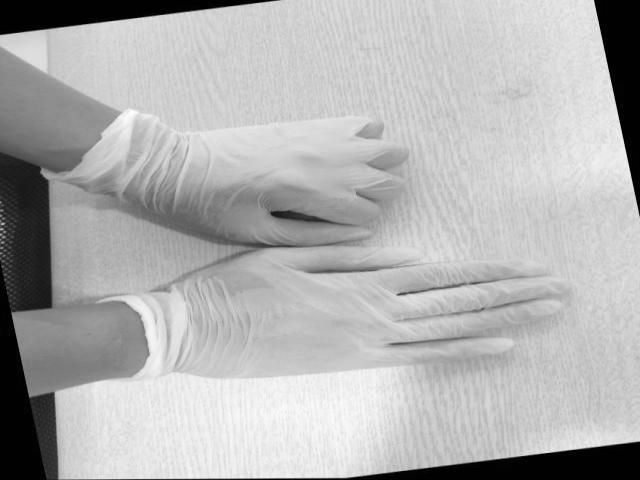gloved: (182, 245, 564, 378), (179, 116, 414, 246)
